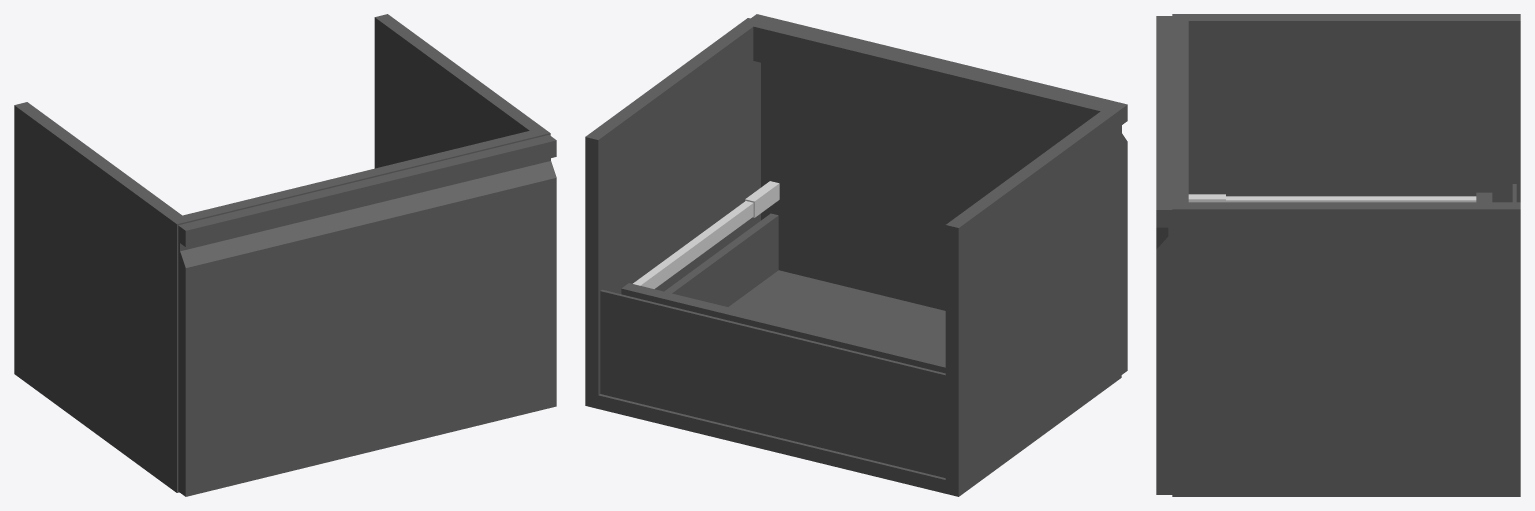
Rendered from AEC_45673.glb.
The picture shows the model from 3 angles, left to right: view 1: azimuth 30°, elevation 25°; view 2: azimuth 150°, elevation 25°; view 3: azimuth 270°, elevation 25°; orthographic projection. The views are drawn at different scales.
Visible parts, largest first — view 1: 0; view 2: 0; view 3: 0.
Part boxes in pixels (x1,y1,x2,y2): 0: [14, 14, 556, 496]; 0: [585, 14, 1127, 496]; 0: [1156, 14, 1520, 496].
Bounding box in the file's own units: 0.57 × 0.392 × 0.45.
Materials: 1 (1 with a texture image).
